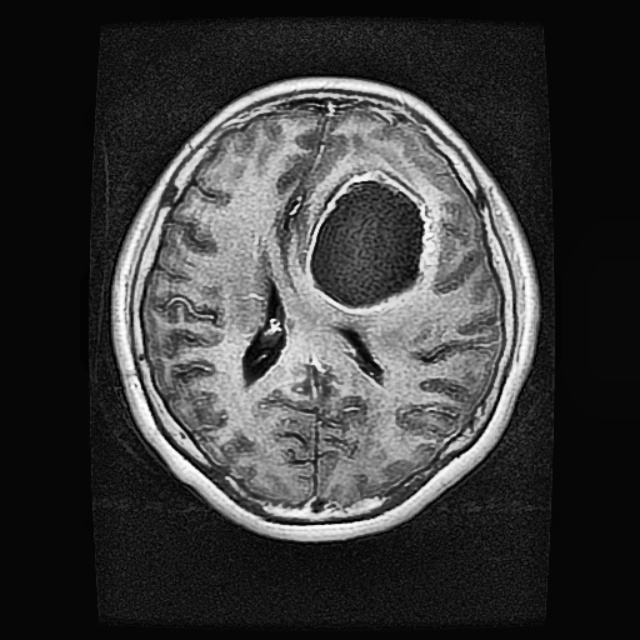Pituitary: (305, 169, 433, 314)
